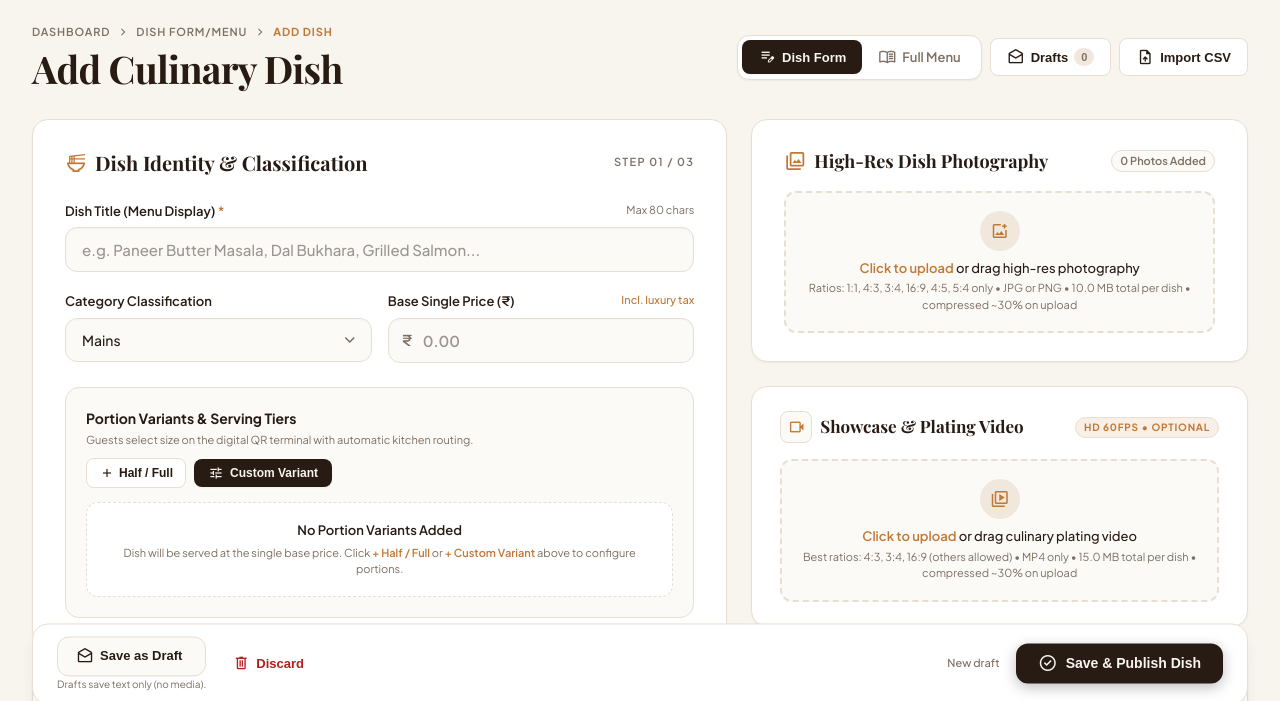
Test: Admin DishForm Suite (TC-ADM-046 to TC-ADM-075) › TC-ADM-057: Appends new portion variant row
Click the button with aria-label "+ Add Variant": (263, 473) left=194, top=459, right=332, bottom=487
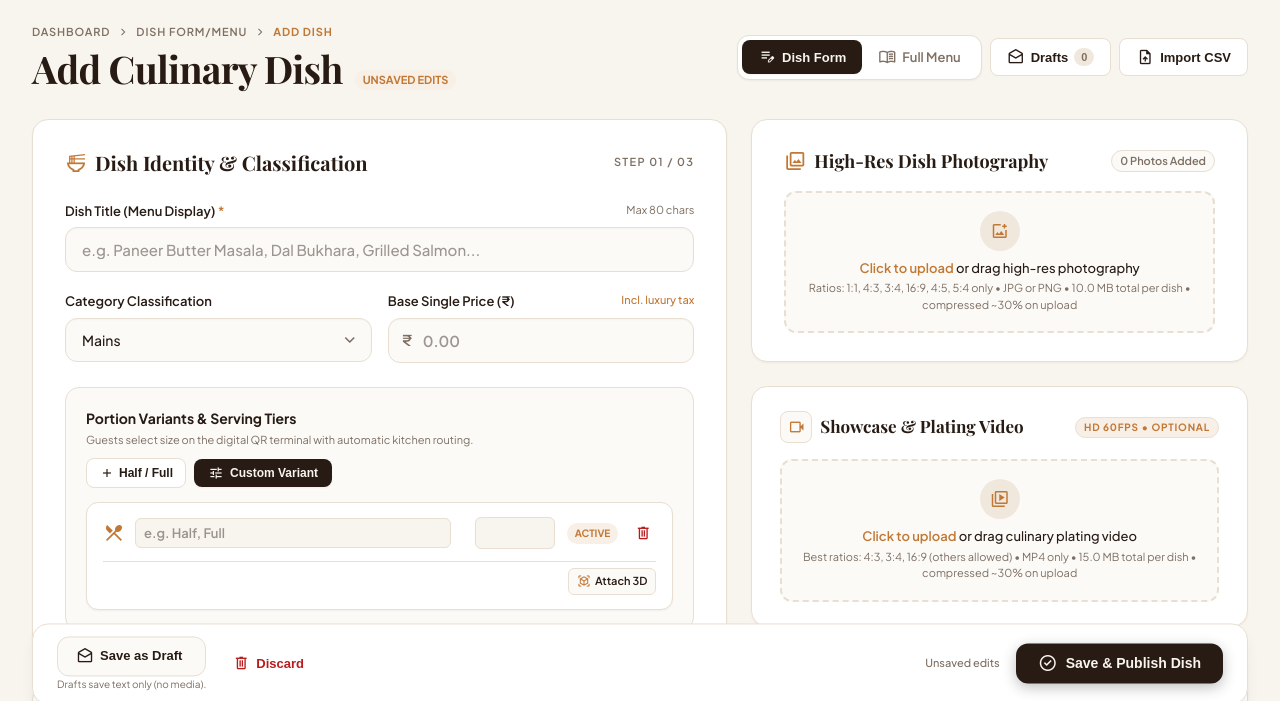
Check: the field with placeholder "e.g. Half, Full" is shown, box left=135, top=518, right=451, bottom=548
